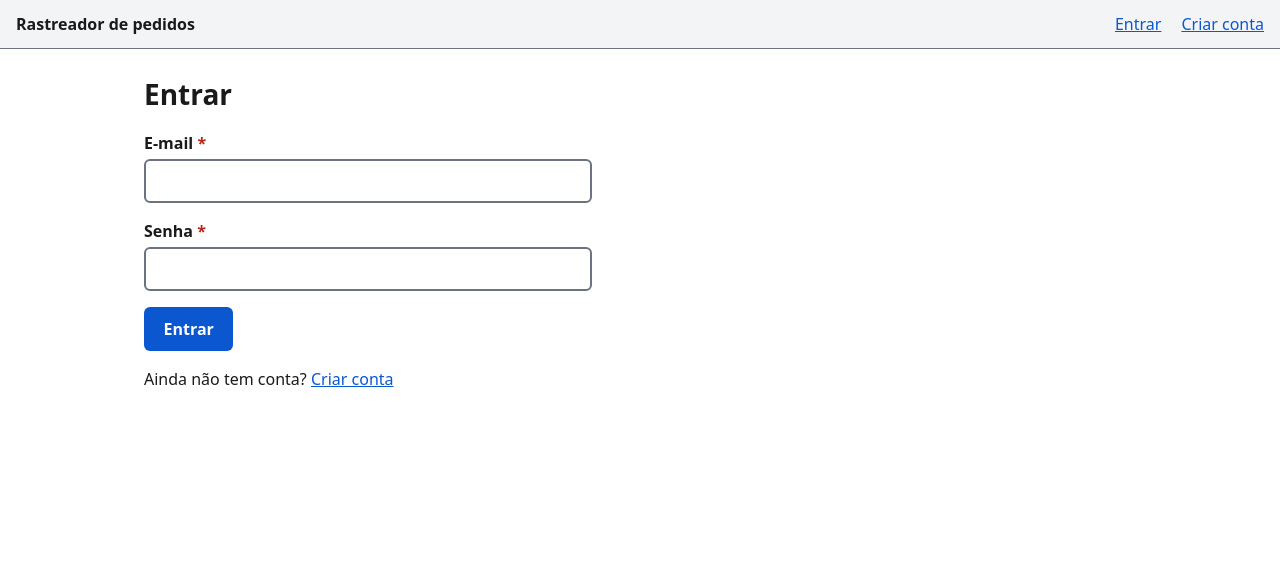
Test: LoginPage › e-mail inválido aponta o campo de e-mail
Check: the heading "Entrar" is shown, box [144,75,232,113]
Type "ana@" into the field labelled "E-mail *" at (368, 181), box [144,159,592,203]
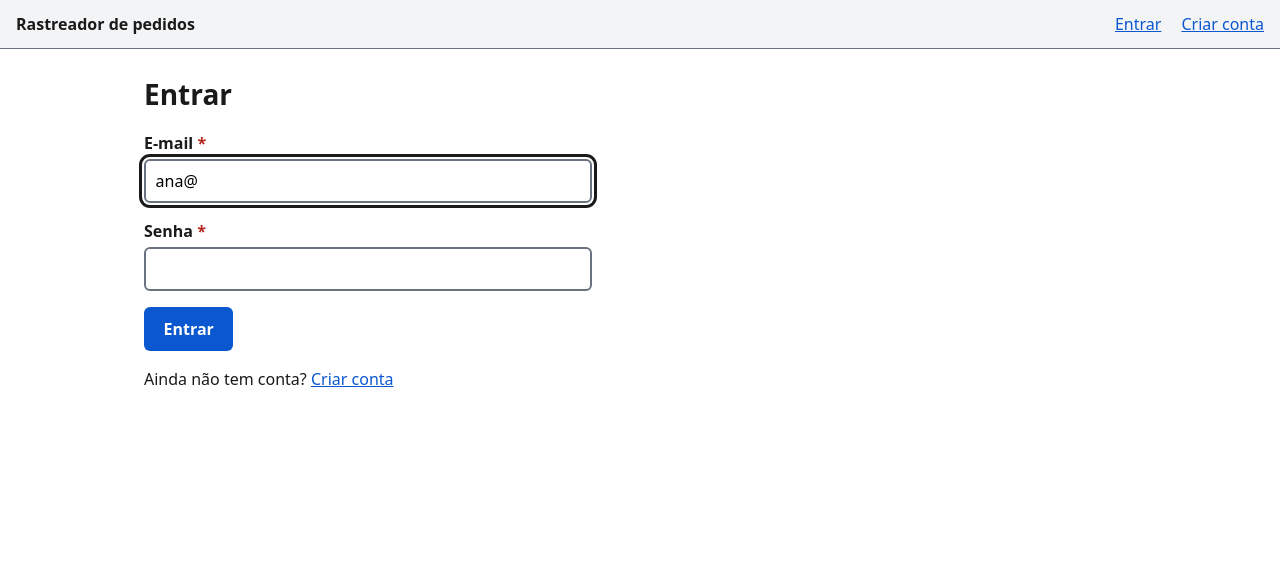
Type "segredo123" into the password field labelled "Senha *" at (368, 269), box [144,247,592,291]
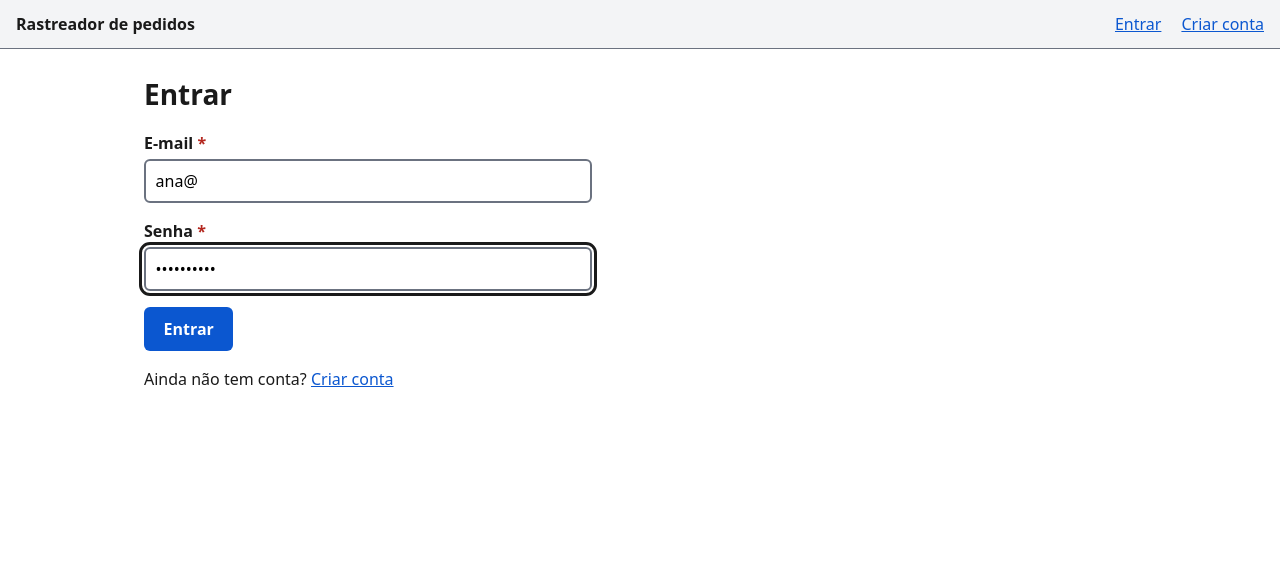
Click the button "Entrar" at (189, 329), box [144,307,234,351]
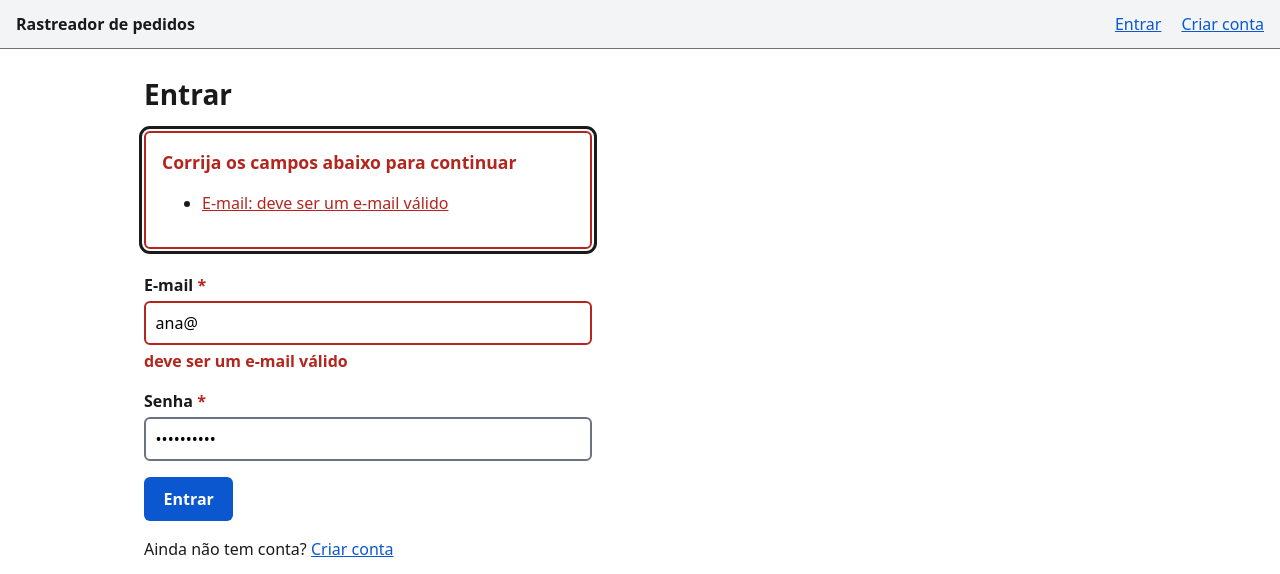
Check: the message shows "E-mail: deve ser um e-mail válido", box [202,192,448,214]
